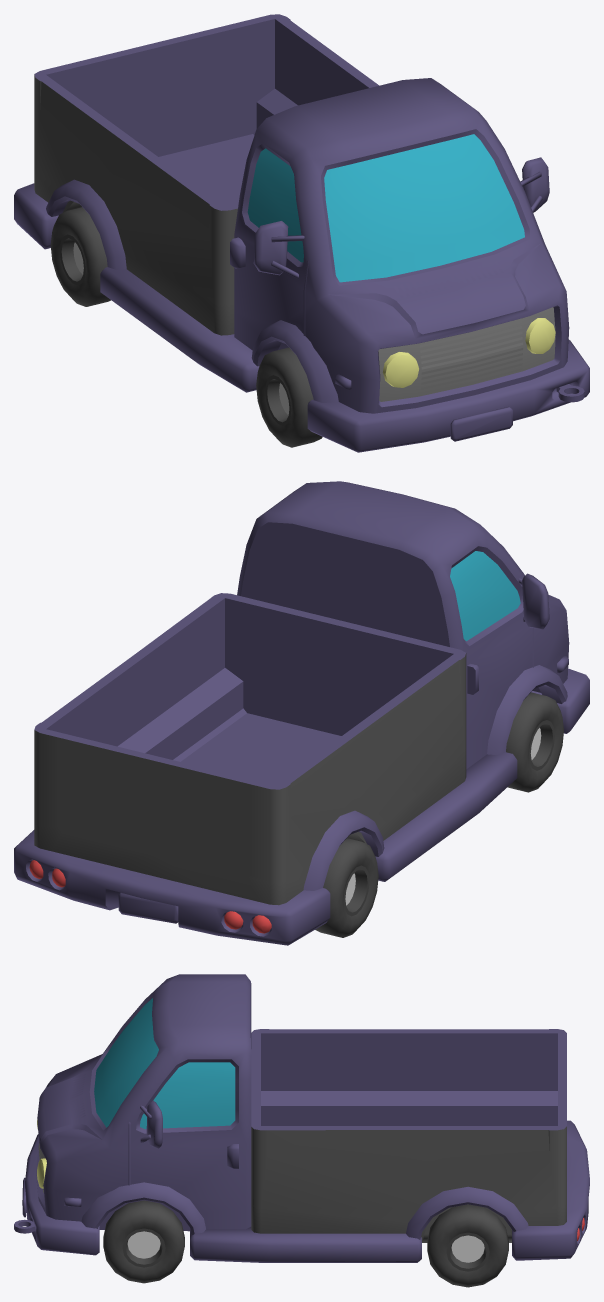
Rendered from pikap.fbx.
3 views of the same model, one above another, from view 1: azimuth 30°, elevation 25°; view 2: azimuth 150°, elevation 25°; view 3: azimuth 270°, elevation 25° (orthographic). The views are drawn at different scales.
Parts seen in each view (by area): view 1: pikap, kapak, teker2, teker4; view 2: pikap, kapak, teker2, teker4; view 3: pikap, teker1, teker3, kapak.
Boxes of the visible parts, x1=… form: pikap: x1=14, y1=14, x2=589, y2=452; kapak: x1=59, y1=19, x2=256, y2=144; teker2: x1=256, y1=347, x2=322, y2=447; teker4: x1=50, y1=207, x2=110, y2=306; pikap: x1=14, y1=481, x2=589, y2=945; kapak: x1=59, y1=733, x2=256, y2=877; teker2: x1=506, y1=692, x2=563, y2=792; teker4: x1=315, y1=838, x2=378, y2=937; pikap: x1=14, y1=974, x2=589, y2=1262; teker1: x1=103, y1=1200, x2=184, y2=1283; teker3: x1=427, y1=1204, x2=508, y2=1287; kapak: x1=558, y1=1040, x2=566, y2=1118.
Bounding box in the file's own units: 296 × 265 × 608.
